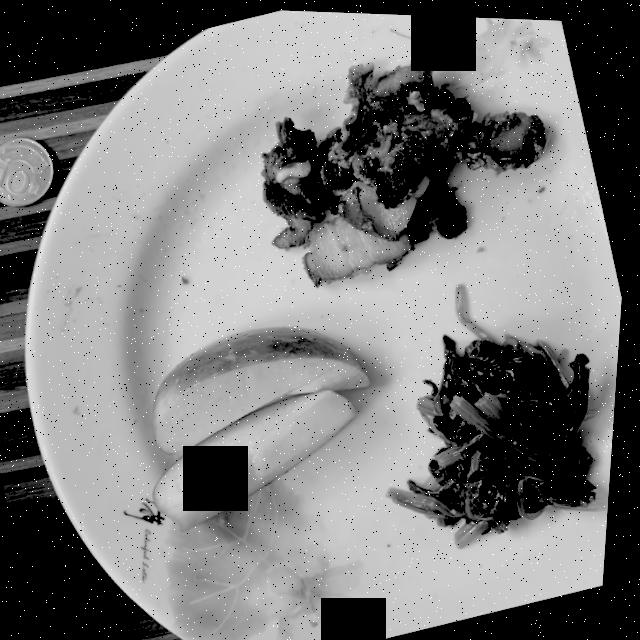apple -sliced-: (158, 323, 374, 528)
coin: (0, 136, 56, 205)
mustard greens: (392, 279, 613, 544)
red grilled pork: (264, 50, 549, 282)
